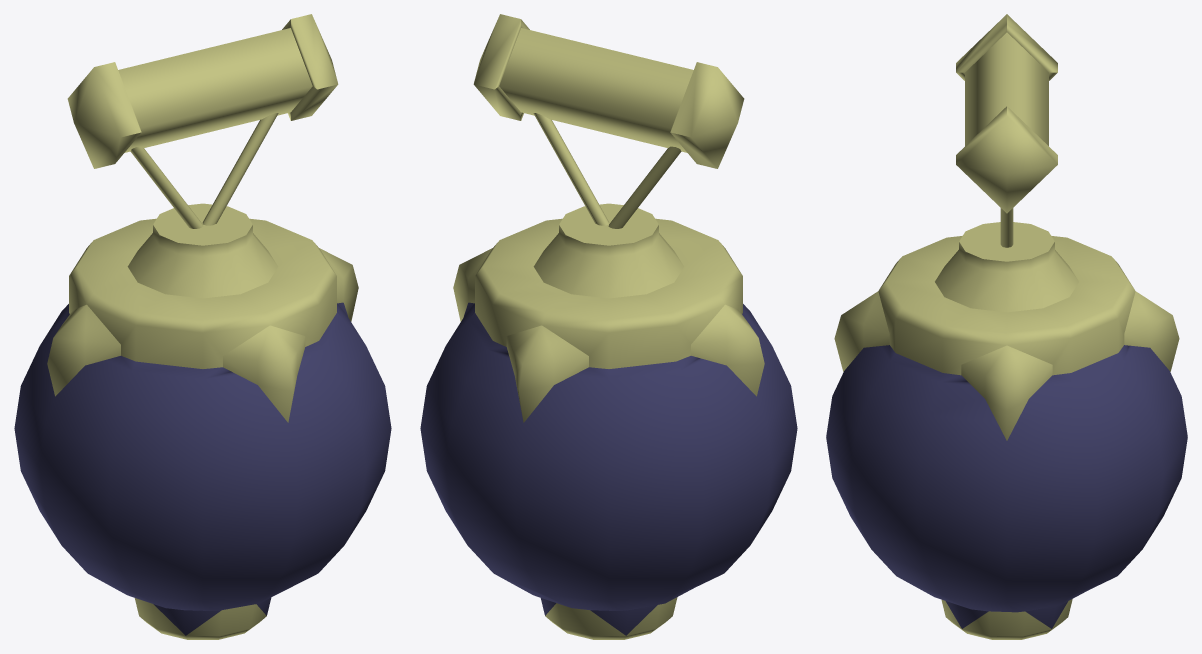
Rendered from DruidaLampara_SB1.fbx.
The picture shows the model from 3 angles, left to right: view 1: azimuth 30°, elevation 25°; view 2: azimuth 150°, elevation 25°; view 3: azimuth 270°, elevation 25°; orthographic projection. The views are drawn at different scales.
Visible parts, largest first — view 1: DruidaLampara_SB1; view 2: DruidaLampara_SB1; view 3: DruidaLampara_SB1.
Part boxes in pixels (x1,y1,x2,y2): DruidaLampara_SB1: [14, 14, 391, 639]; DruidaLampara_SB1: [420, 14, 797, 639]; DruidaLampara_SB1: [826, 14, 1187, 639].
Bounding box in the file's own units: 22.51 × 37.9 × 22.51.
